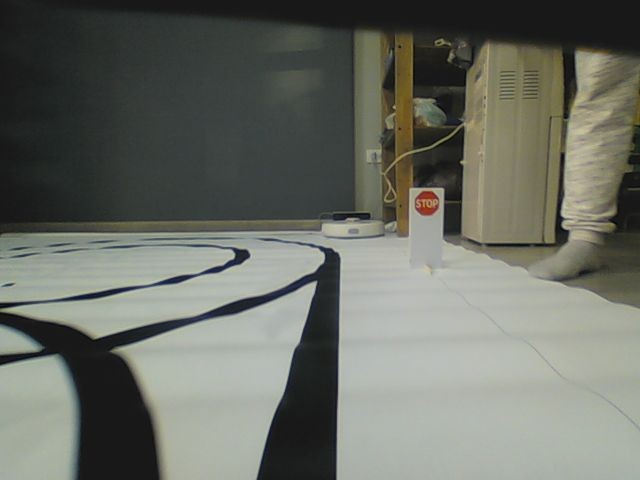Stop: (413, 190, 439, 216)
